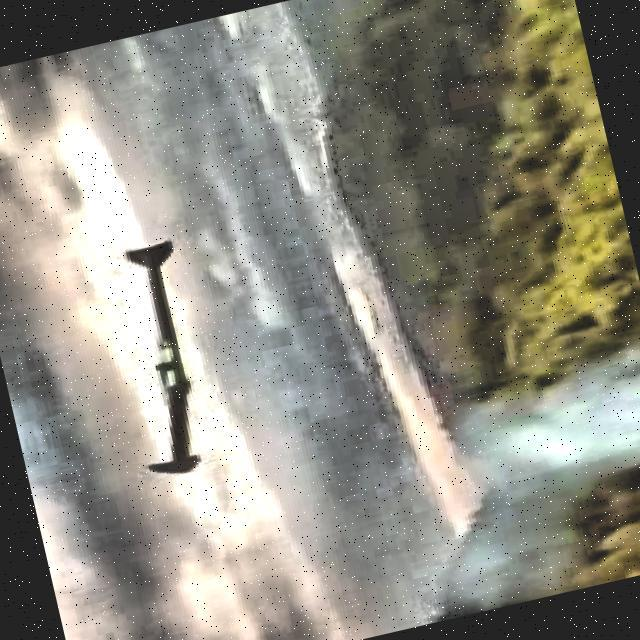iha: (105, 228, 235, 477)
